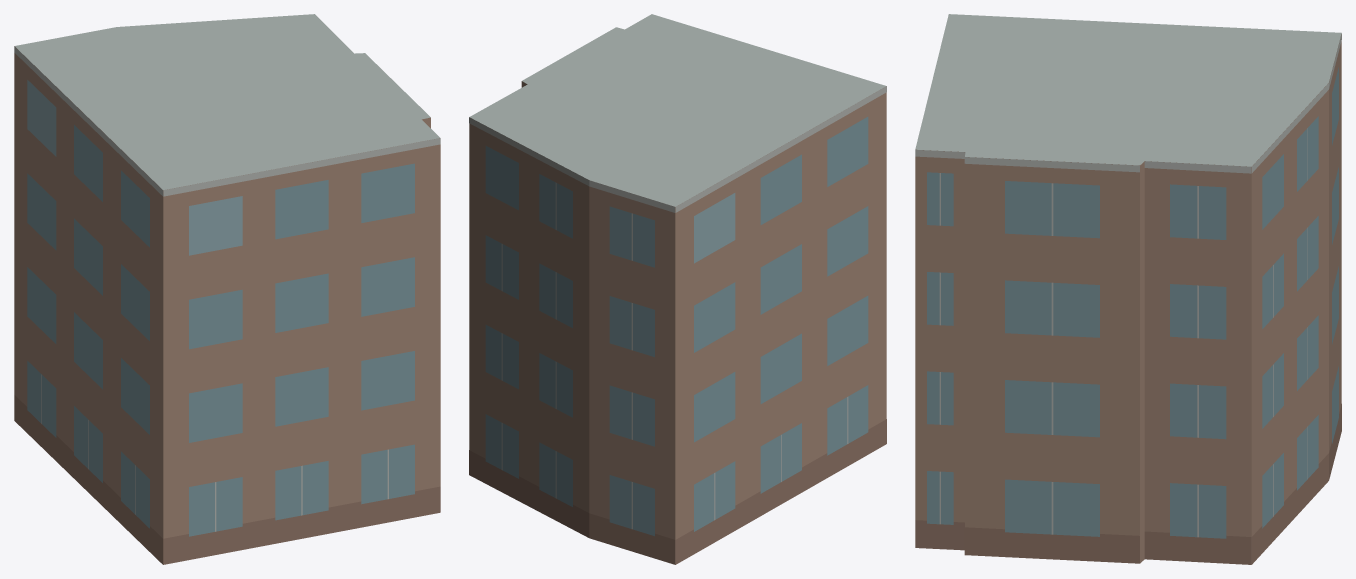
The model's file is survey-upis-32656709.glb.
3 views of the same model, side by side, from view 1: azimuth 30°, elevation 25°; view 2: azimuth 150°, elevation 25°; view 3: azimuth 270°, elevation 25° (orthographic). The views are drawn at different scales.
Visible parts, largest first — view 1: survey-upis-32656709.tmp; view 2: survey-upis-32656709.tmp; view 3: survey-upis-32656709.tmp.
Boxes of the visible parts, x1,y1,x2,y2 form: survey-upis-32656709.tmp: [14, 14, 440, 564]; survey-upis-32656709.tmp: [469, 14, 886, 564]; survey-upis-32656709.tmp: [915, 14, 1341, 564].
Bounding box in the file's own units: 11.57 × 14.06 × 13.66.
